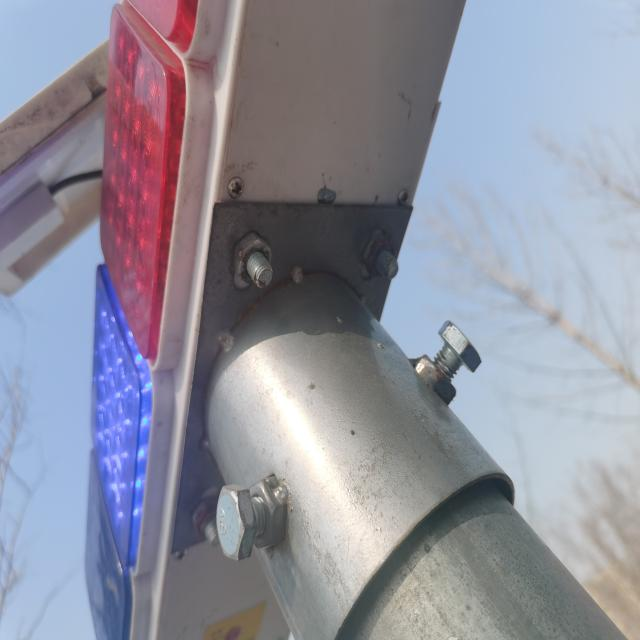blur bolt: (191, 497, 224, 547)
bolt head: (216, 480, 258, 563)
bolt nut: (233, 231, 273, 289), (363, 232, 398, 280)
bolt side: (438, 319, 482, 374)
